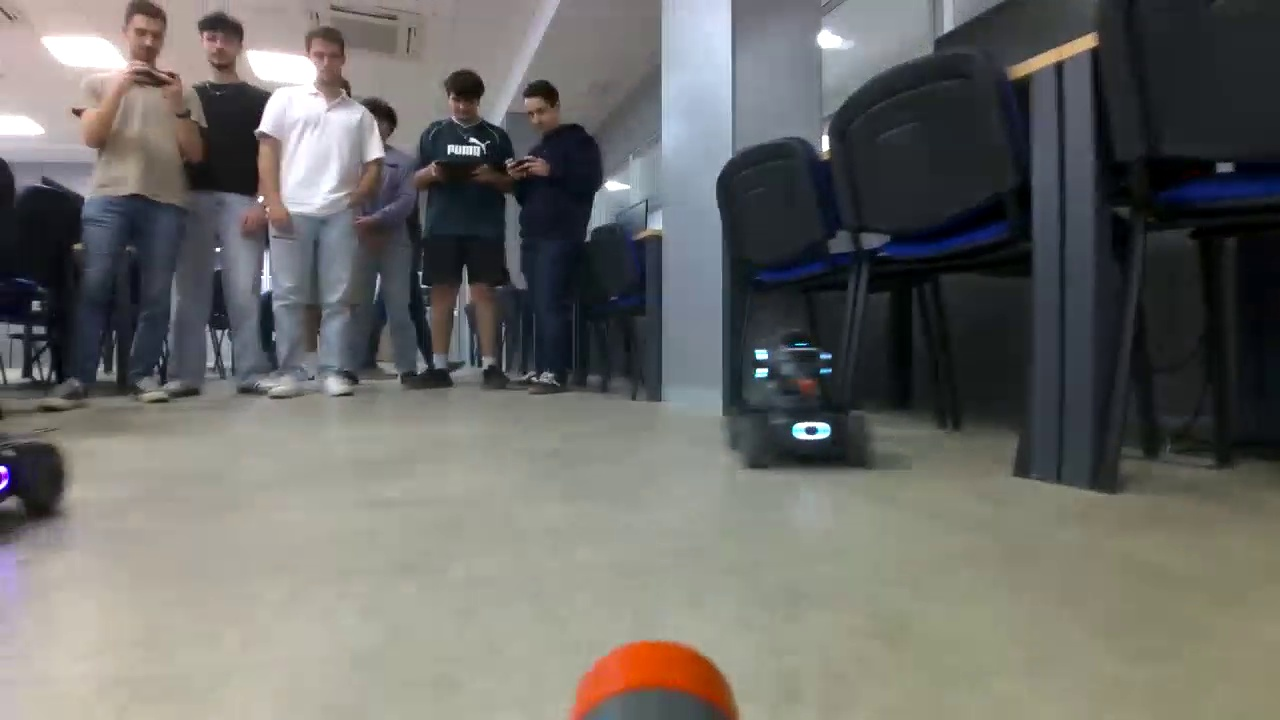robot: (728, 329, 868, 470), (1, 432, 69, 541)
